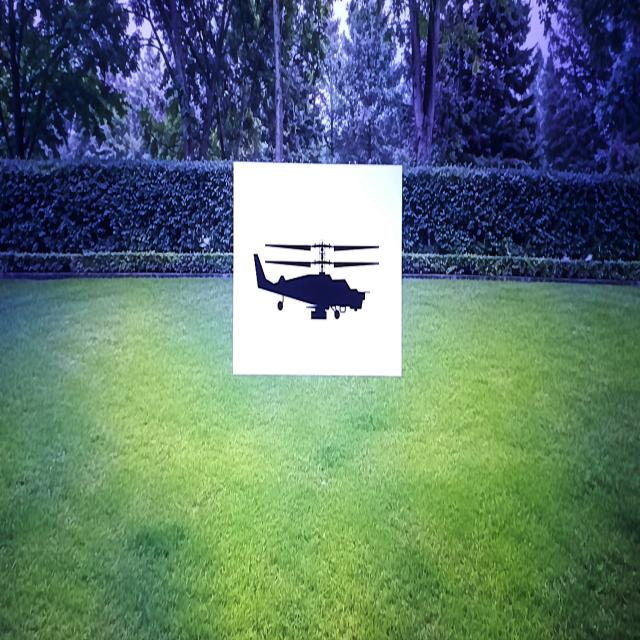Ka-52 Enemy: (254, 242, 378, 319)
